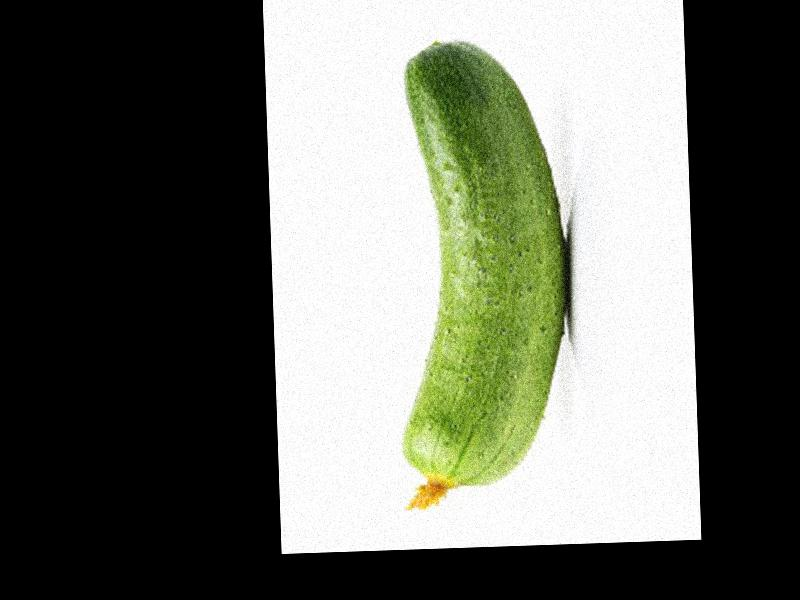Cucumber: (386, 35, 576, 514)
